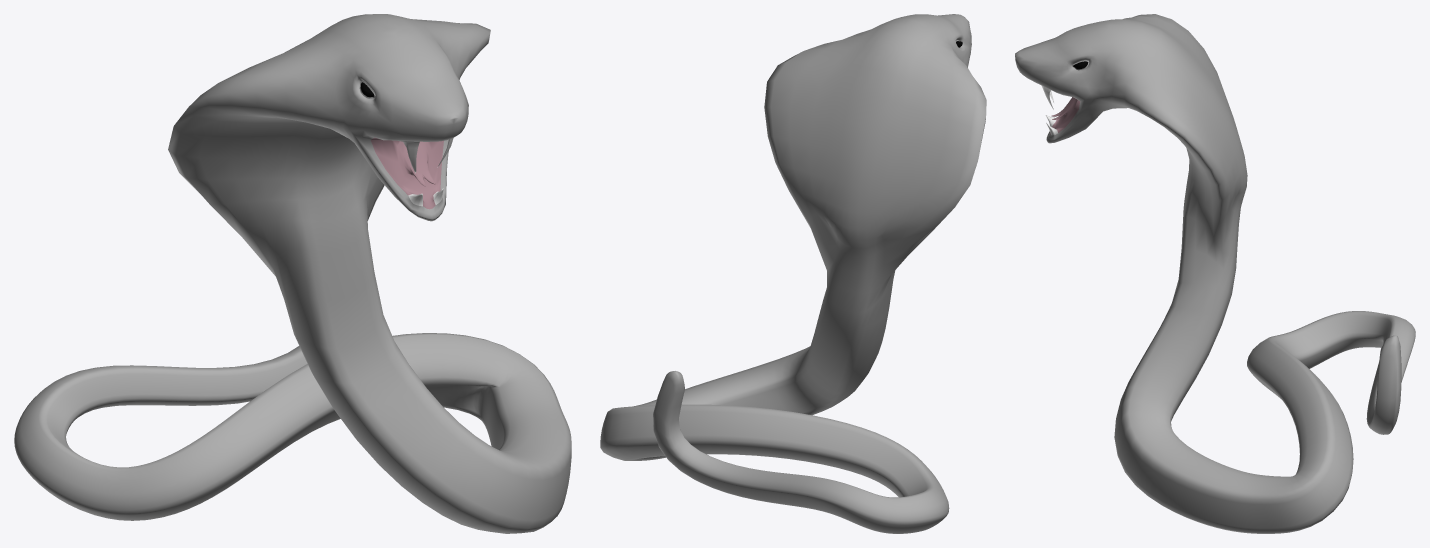
File: env_Snake_01.fbx
3 views of the same model, side by side, from view 1: azimuth 30°, elevation 25°; view 2: azimuth 150°, elevation 25°; view 3: azimuth 270°, elevation 25° (orthographic). The views are drawn at different scales.
Parts seen in each view (by area): view 1: pCube2; view 2: pCube2; view 3: pCube2.
Part boxes in pixels (x1=…): pCube2: x1=14, y1=14, x2=571, y2=533; pCube2: x1=600, y1=14, x2=986, y2=533; pCube2: x1=1015, y1=14, x2=1415, y2=533.
Size of the model in its own units: 0.8757 by 0.9967 by 0.8648.
